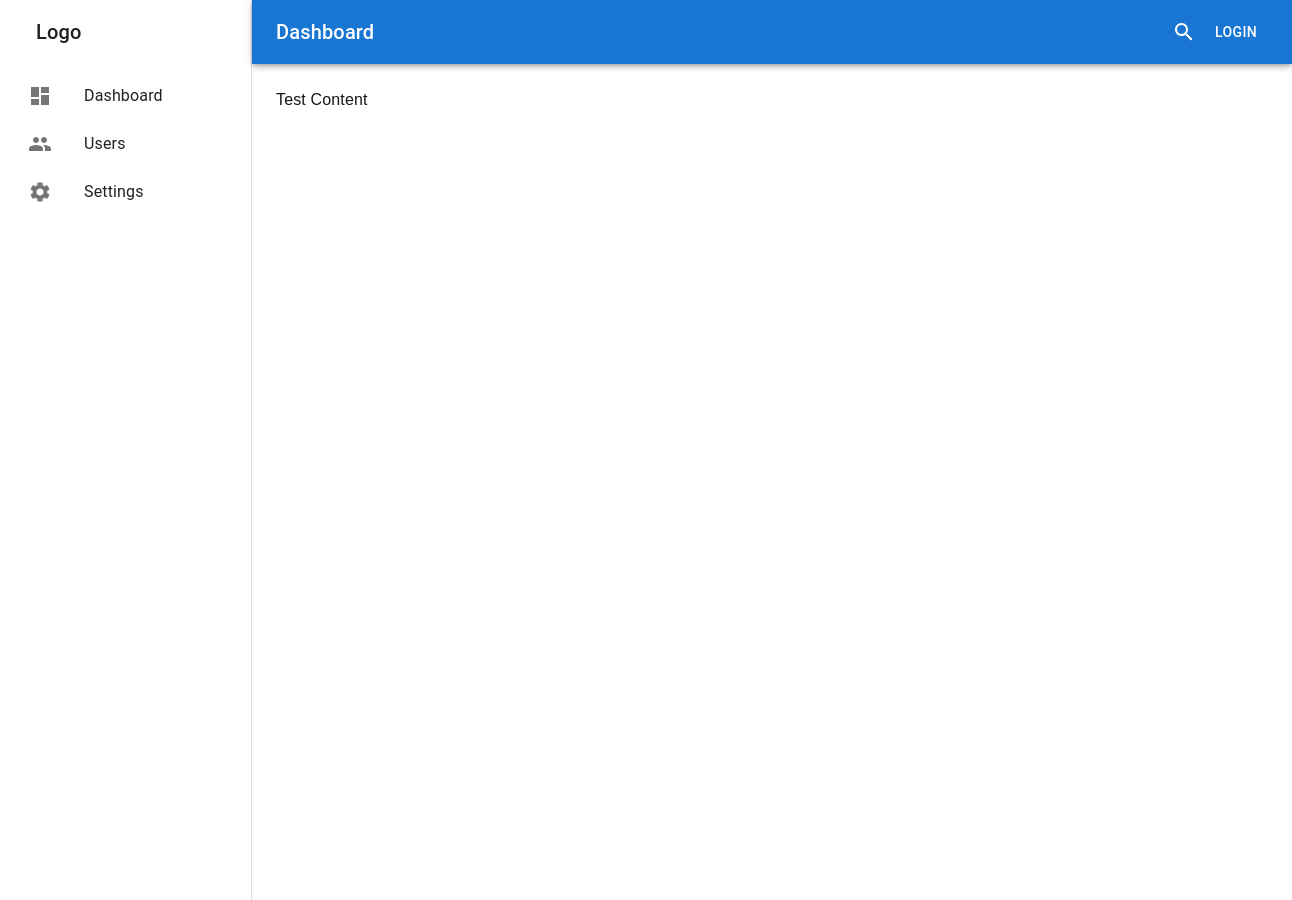
Test case: DashboardWrapper › toggles search bar visibility
Note: Click the search button
Click the button named "search" at (1184, 32), box [1164,12,1204,52]
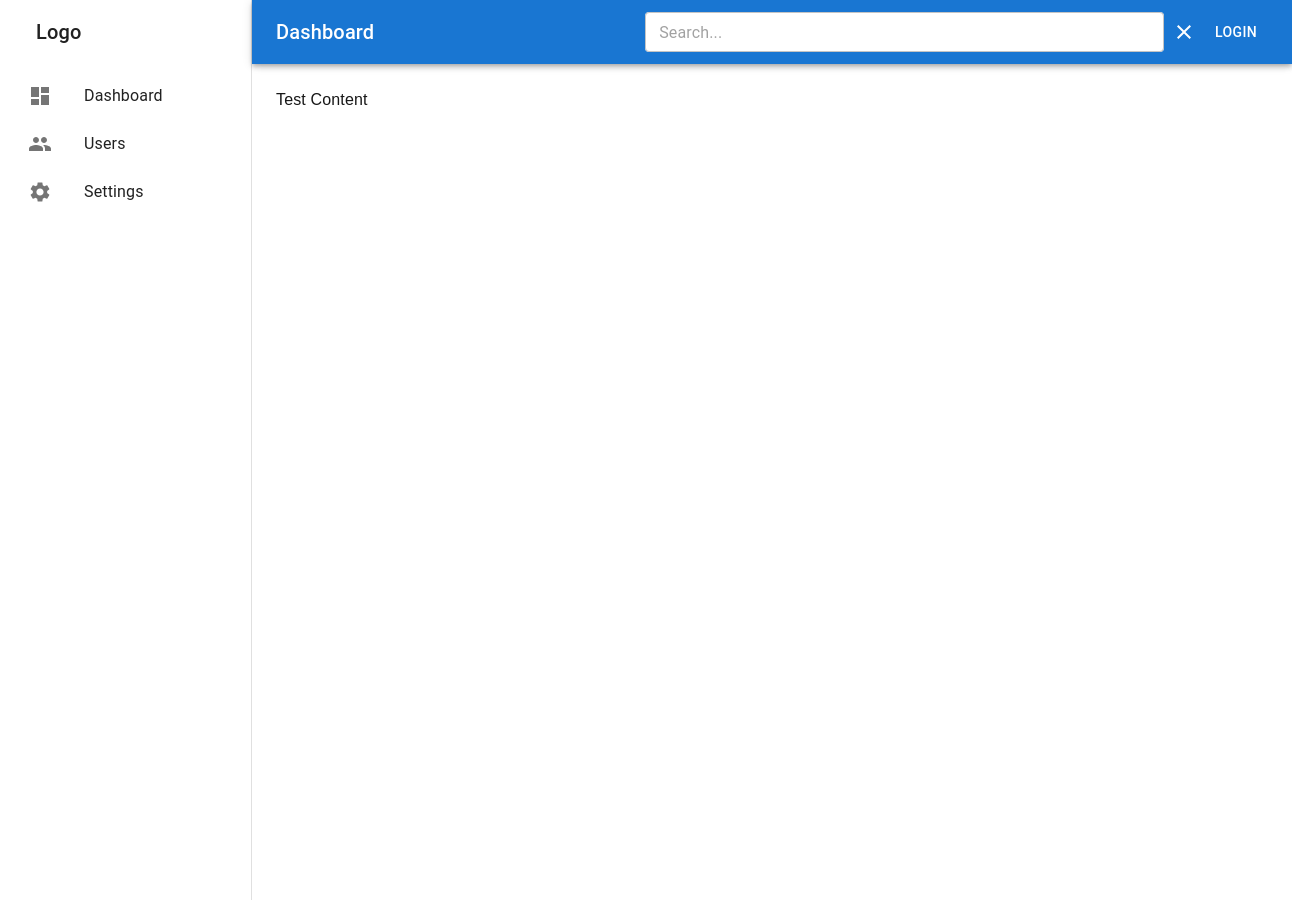
expect the field with placeholder "Search..." is shown: met, box [645,12,1164,52]
Note: Click the close button
Click the button named "close" at (1184, 32), box [1164,12,1204,52]
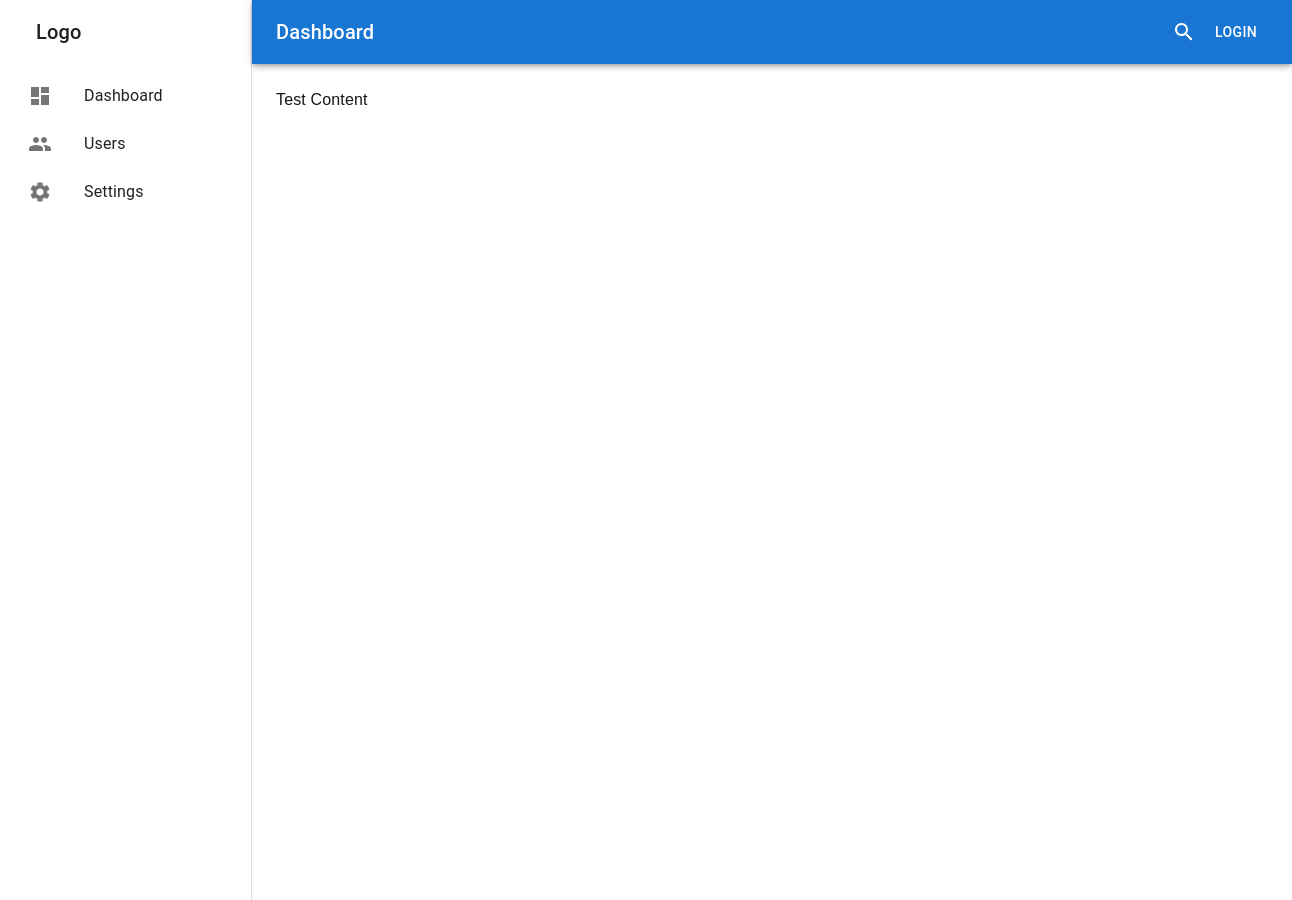
expect the field with placeholder "search..." is gone: met
